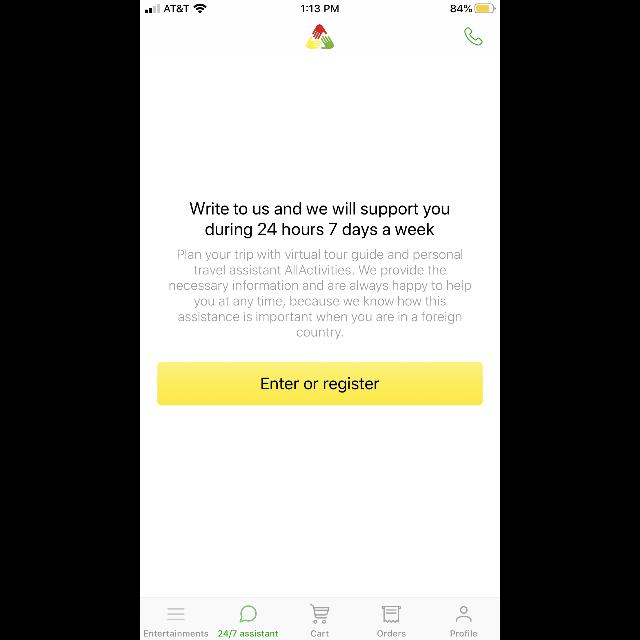icon: (310, 604, 330, 624), (382, 606, 401, 622), (456, 606, 472, 622), (240, 606, 256, 622), (168, 608, 185, 620)
image: (306, 25, 334, 49), (464, 28, 482, 46)
text: (170, 249, 470, 339), (190, 202, 450, 238), (218, 630, 278, 638), (144, 631, 208, 637), (377, 630, 405, 636), (451, 630, 477, 636), (311, 631, 329, 637)
textbutton: (158, 362, 482, 406)
uppertaskbar: (140, 0, 500, 14)
